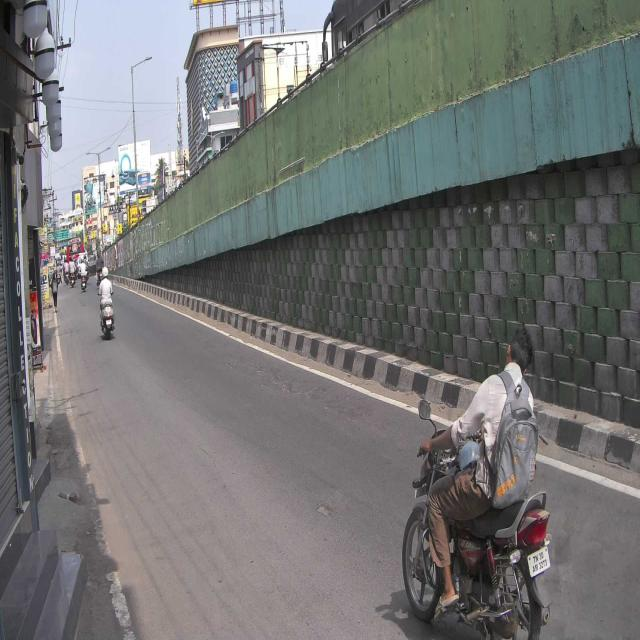single_rider: (401, 328, 550, 640)
